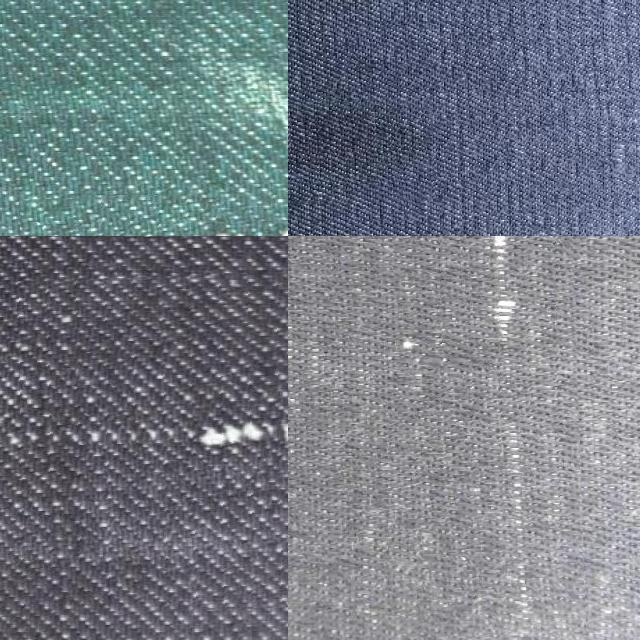Thread_other: (288, 101, 433, 210)
stains: (0, 270, 288, 614), (389, 236, 580, 637), (18, 190, 288, 236)
